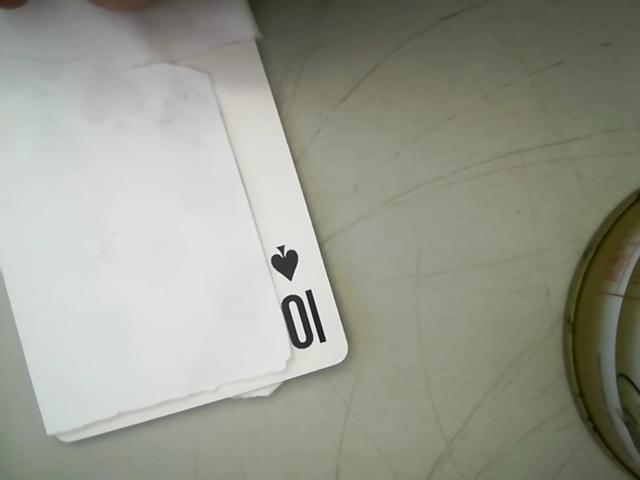ht 10: (260, 234, 335, 368)
